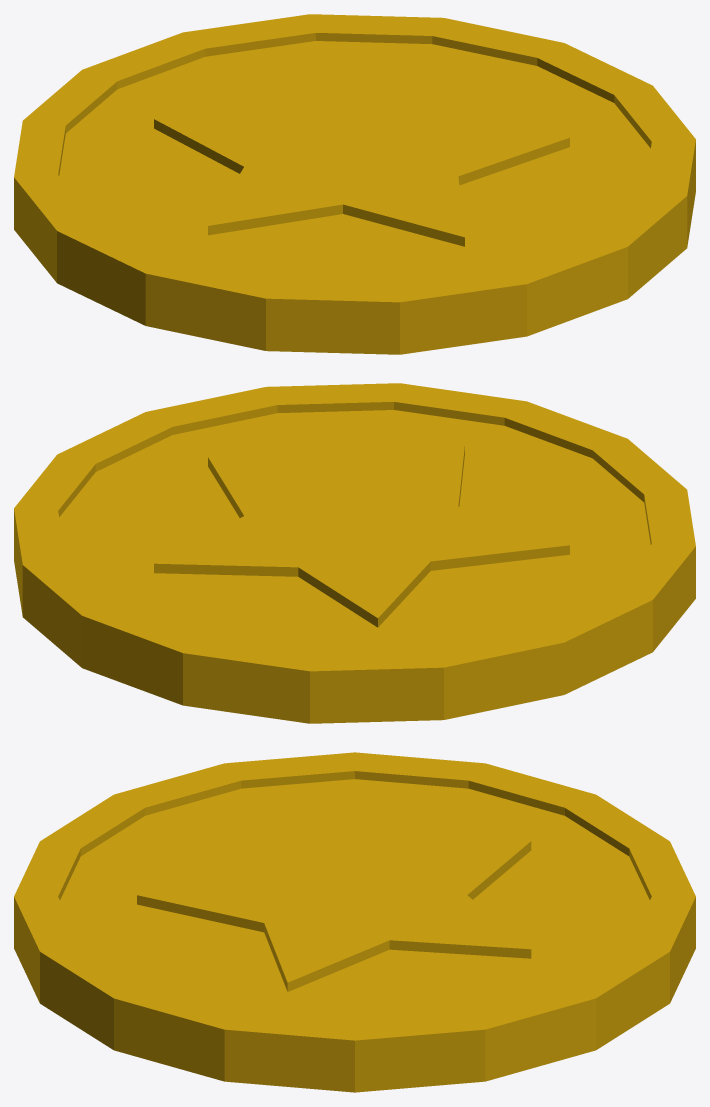
Rendered from coin.gltf.
3 renders of one model, top to bottom at view 1: azimuth 30°, elevation 25°; view 2: azimuth 150°, elevation 25°; view 3: azimuth 270°, elevation 25°, orthographic.
Parts seen in each view (by area): view 1: Coin; view 2: Coin; view 3: Coin.
Boxes of the visible parts, x1,y1,x2,y2 form: Coin: [14, 14, 695, 354]; Coin: [14, 383, 695, 723]; Coin: [14, 752, 695, 1092].
Size of the model in its own units: 2 by 0.1768 by 2.
1 material, 1 textured.
